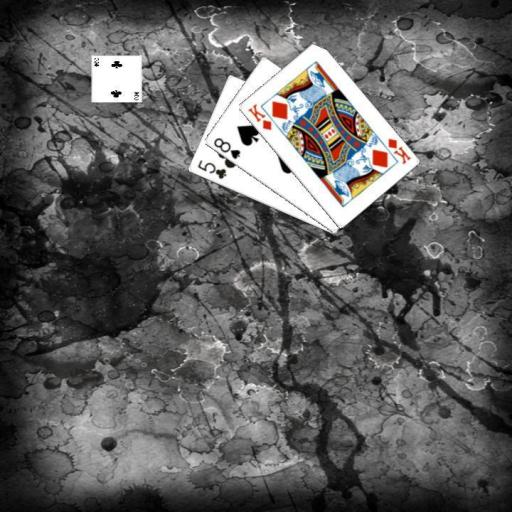card-corner: (245, 100, 273, 132), (384, 135, 412, 166), (210, 134, 242, 161), (194, 157, 228, 181)
